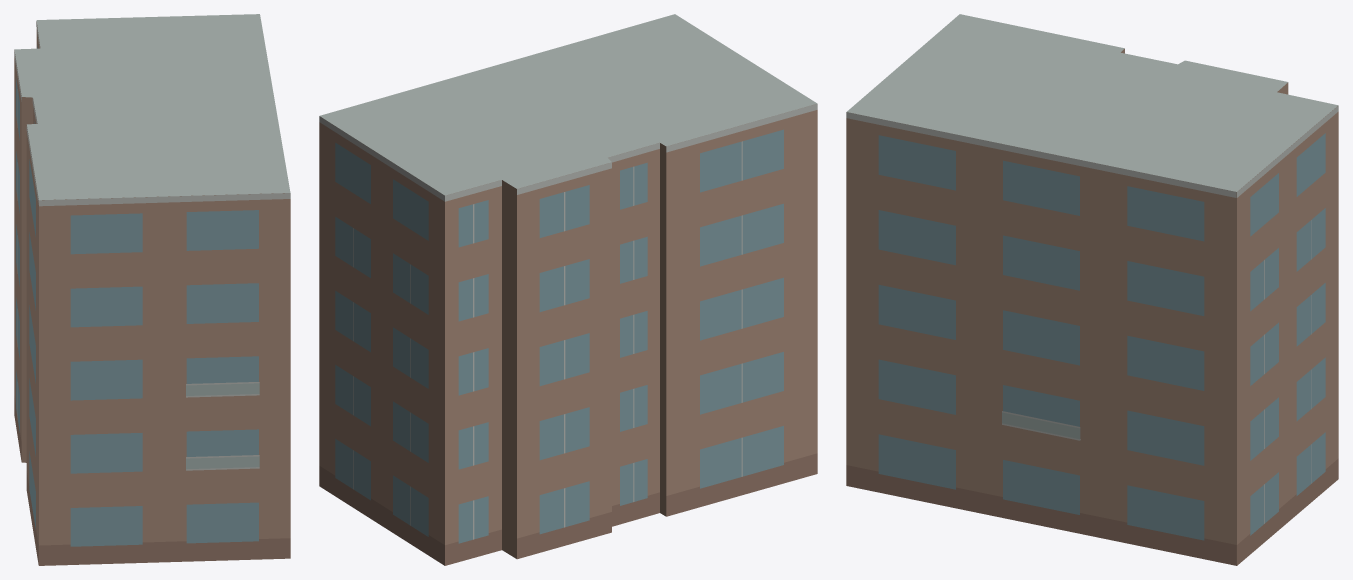
Rendered from survey-upis-32844509.glb.
3 renders of one model, left to right at view 1: azimuth 30°, elevation 25°; view 2: azimuth 150°, elevation 25°; view 3: azimuth 270°, elevation 25°, orthographic. The views are drawn at different scales.
Visible parts, largest first — view 1: survey-upis-32844509.tmp; view 2: survey-upis-32844509.tmp; view 3: survey-upis-32844509.tmp.
Part boxes in pixels (box(x1,y1,x2,y2)): survey-upis-32844509.tmp: box(14, 14, 290, 565); survey-upis-32844509.tmp: box(319, 14, 817, 565); survey-upis-32844509.tmp: box(846, 14, 1338, 565).
Bounding box in the file's own units: 15.06 × 14.75 × 17.6.
